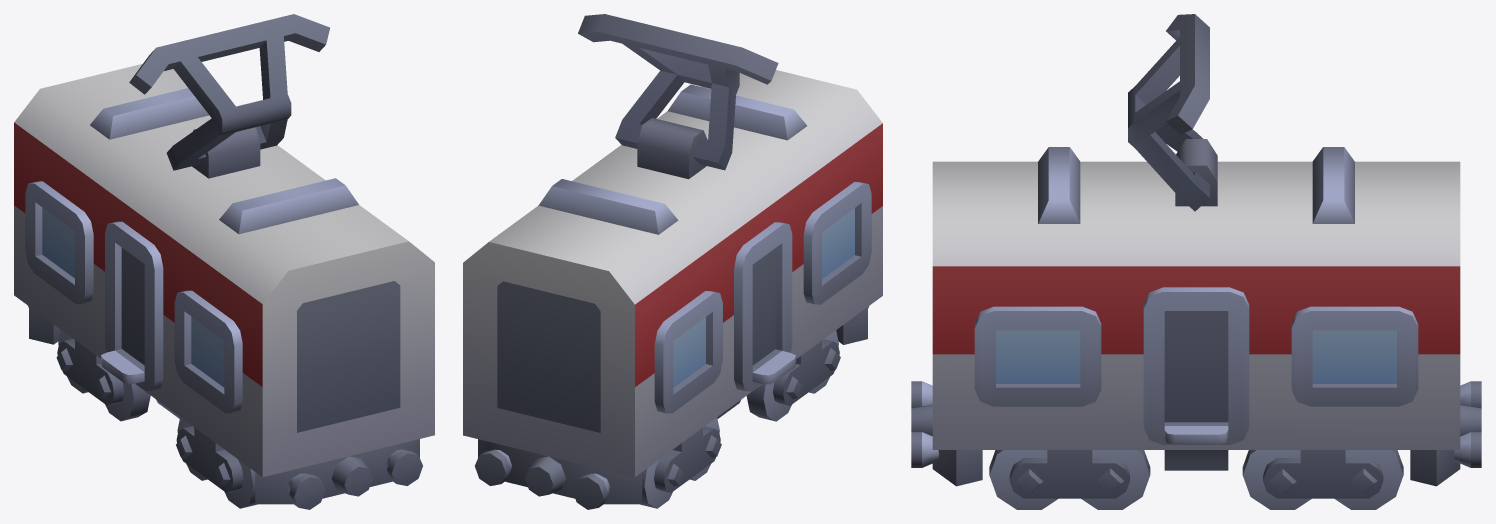
Rendered from train-electric-city-b.glb.
3 renders of one model, left to right at view 1: azimuth 30°, elevation 25°; view 2: azimuth 150°, elevation 25°; view 3: azimuth 270°, elevation 25°, orthographic. The views are drawn at different scales.
Visible parts, largest first — view 1: train-electric-city-b, collector, wheels-back, wheels-front; view 2: train-electric-city-b, collector, wheels-front, wheels-back; view 3: train-electric-city-b, collector, wheels-back, wheels-front.
Boxes of the visible parts, x1,y1,x2,y2 form: train-electric-city-b: (14,63,434,509); collector: (129,14,329,170); wheels-back: (56,330,150,421); wheels-front: (176,417,257,508); train-electric-city-b: (463,70,882,509); collector: (578,14,778,170); wheels-front: (746,330,840,421); wheels-back: (640,417,721,508); train-electric-city-b: (911,139,1481,486); collector: (1128,14,1209,211); wheels-back: (1242,450,1403,509); wheels-front: (989,450,1150,509).
Size of the model in its own units: 1.3 by 2.22 by 2.7.
